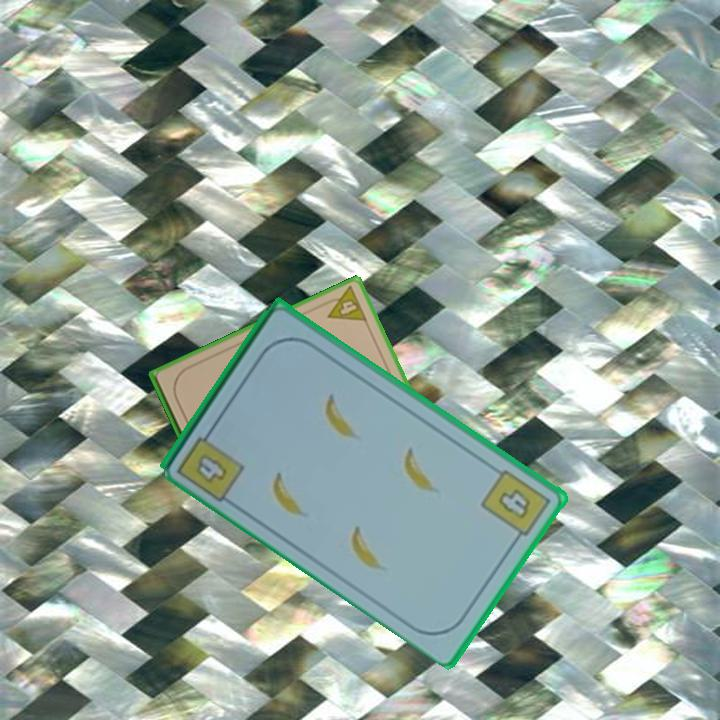4b: (477, 465, 554, 546), (173, 422, 248, 504)
4p: (319, 282, 370, 324)
